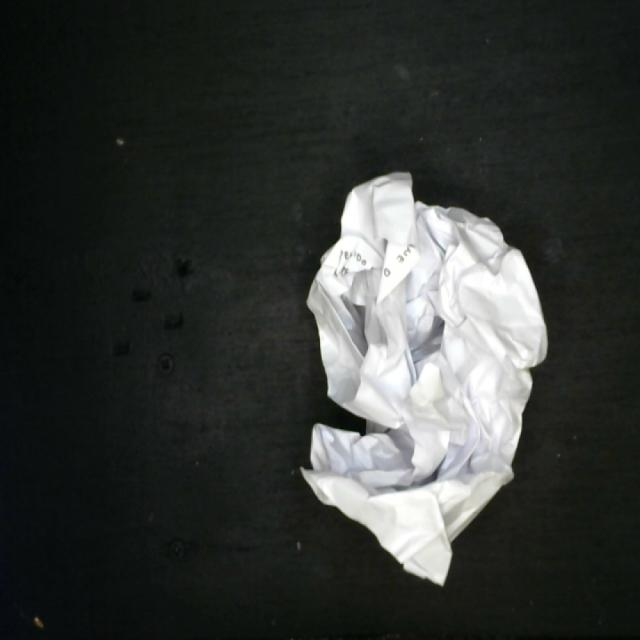biodegradable: (296, 162, 550, 596)
